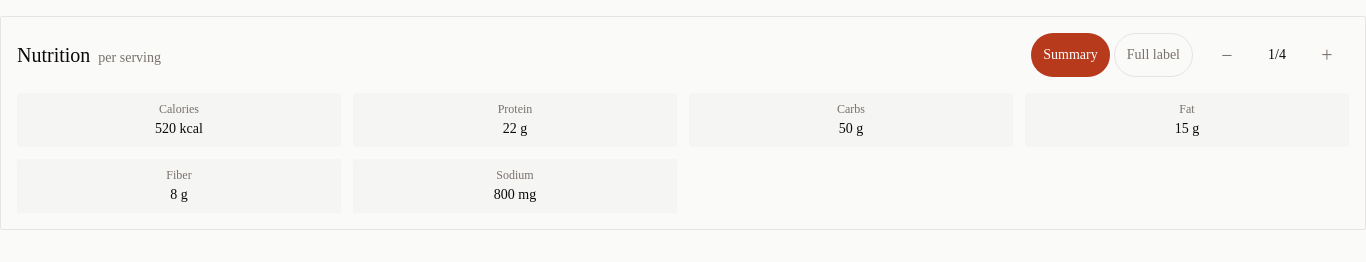
Test case: NutritionPanel — summary/label view toggle › keeps the label on the same basis as the grid when portions change
The width and height of the screenshot is (1366, 262).
Click the button "Full label" at {"x": 1153, "y": 55}, box [1114,33,1193,77]
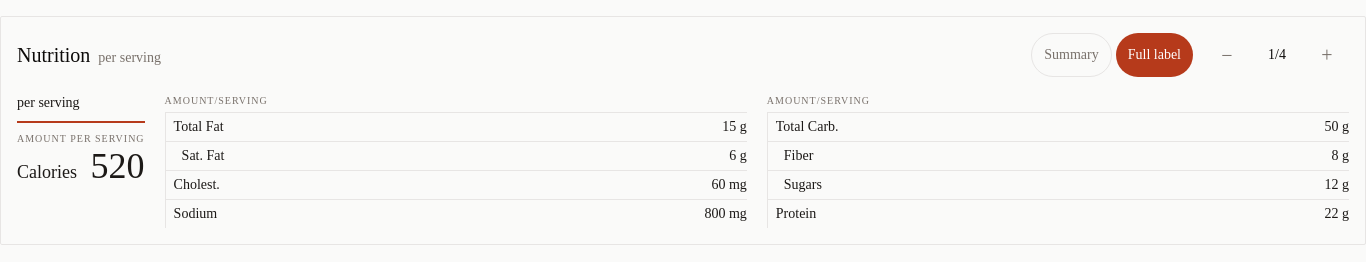
Click the button named "smaller portion size" at {"x": 1327, "y": 55}, box [1305,33,1349,77]
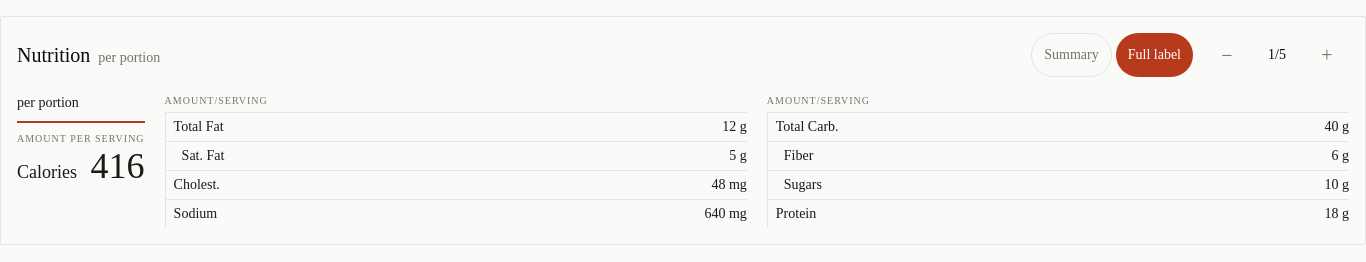
Click the button named "smaller portion size" at {"x": 1327, "y": 55}, box [1305,33,1349,77]
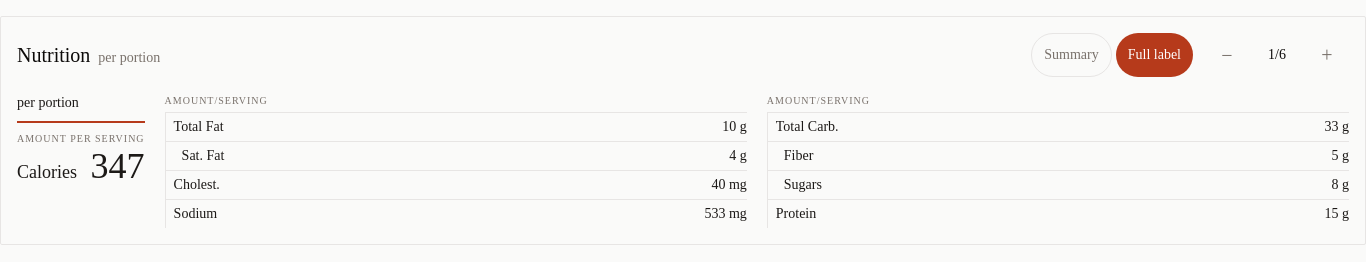
Click the button named "smaller portion size" at {"x": 1327, "y": 55}, box [1305,33,1349,77]
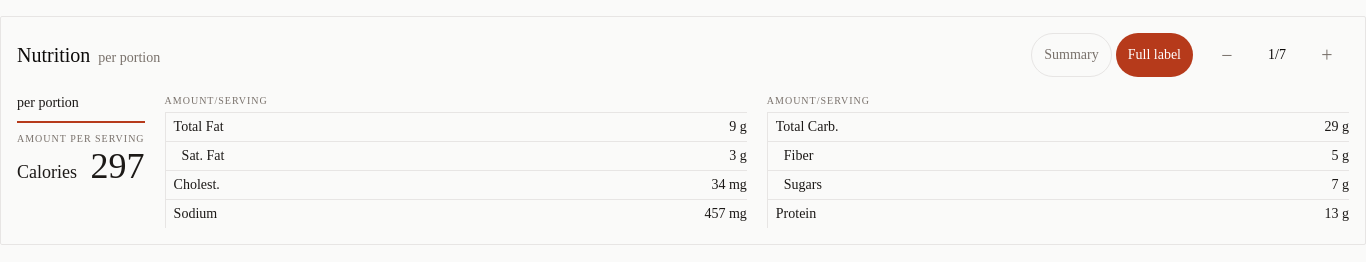
Click the button named "smaller portion size" at {"x": 1327, "y": 55}, box [1305,33,1349,77]
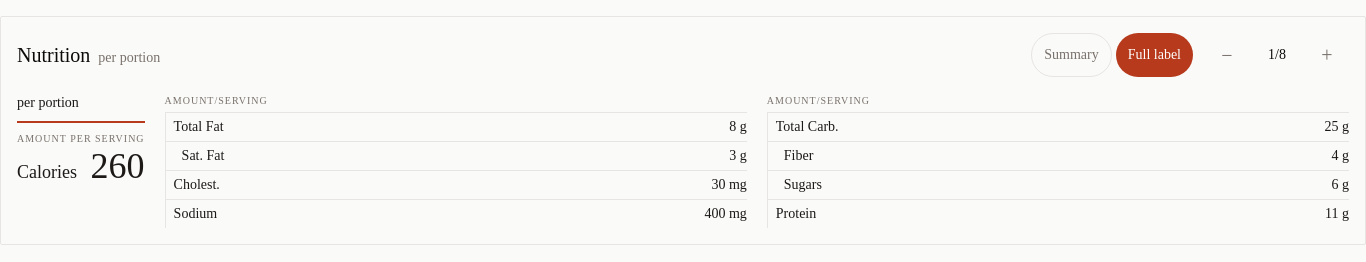
Expected: the text "per portion" is shown 2 times, [98,48,160,68]; [17,93,79,113]
Now the text "Amount per serving" is shown, box [17,131,145,146]
Now the text "260" is shown, box [91,148,145,184]
